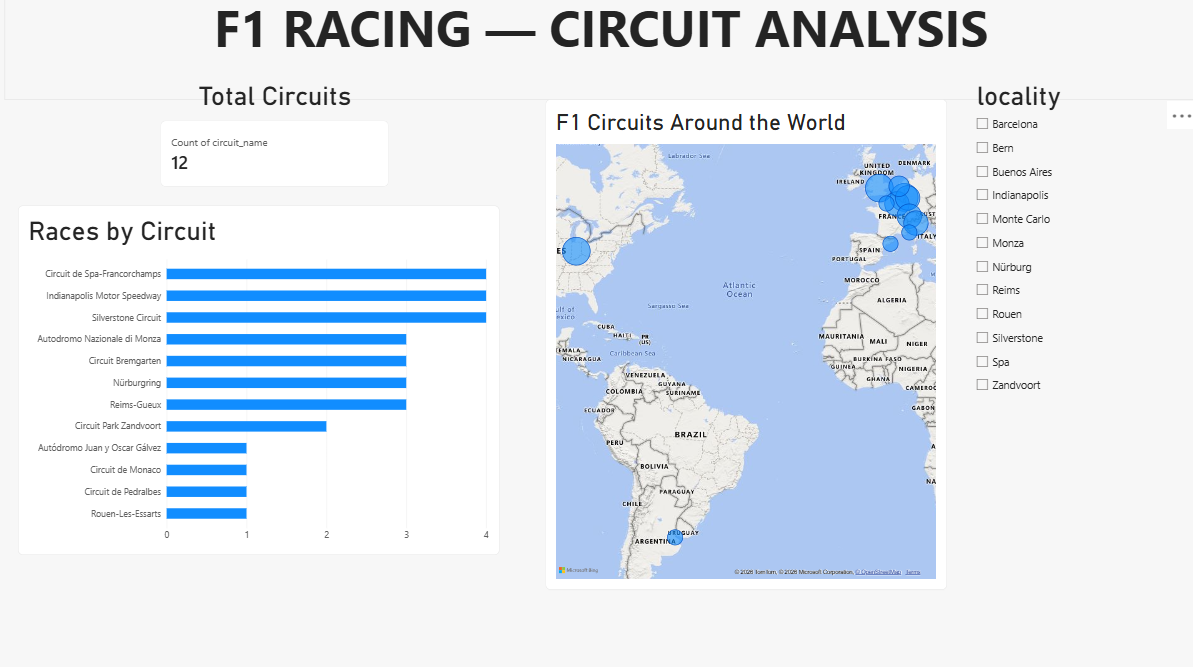

Layout of this report page (visuals, bound fields, positions):
{"tool":"powerbi","page":{"name":"Circuit Analysis","canvas":[1920,1080],"ordinal":3},"visuals":[{"type":"textbox","box":[10,0,1910,170],"z":0},{"type":"cardVisual","title":"Total Circuits","fields":{"Data":["Count(presentation.circuit_name)"]},"box":[260,140,366,170.2],"z":1000},{"type":"clusteredBarChart","title":"Races by Circuit","fields":{"Category":["presentation.circuit_name"],"Y":["CountNonNull(presentation.race_name)"]},"box":[32.5,340,770.2,559.6],"z":2000},{"type":"slicer","fields":{"Values":["presentation.locality"]},"box":[1557.5,140,322.5,537.5],"z":3000},{"type":"map","title":"F1 Circuits Around the World","fields":{"Size":["CountNonNull(presentation.race_name)"],"X":["presentation.longitude"],"Y":["presentation.latitude"]},"box":[875,170,642.5,785],"z":4000}]}

Visuals, with their boxes in screenshot pixels (x1, y1, x2, y2), scaled from the page's 1920x1080 canvas onto the 1193x667 screenshot:
textbox: [6,0,1192,105]
"Total Circuits" cardVisual: [162,86,389,192]
"Races by Circuit" clusteredBarChart: [20,210,499,556]
slicer - presentation.locality: [968,86,1168,418]
"F1 Circuits Around the World" map: [544,105,943,590]
